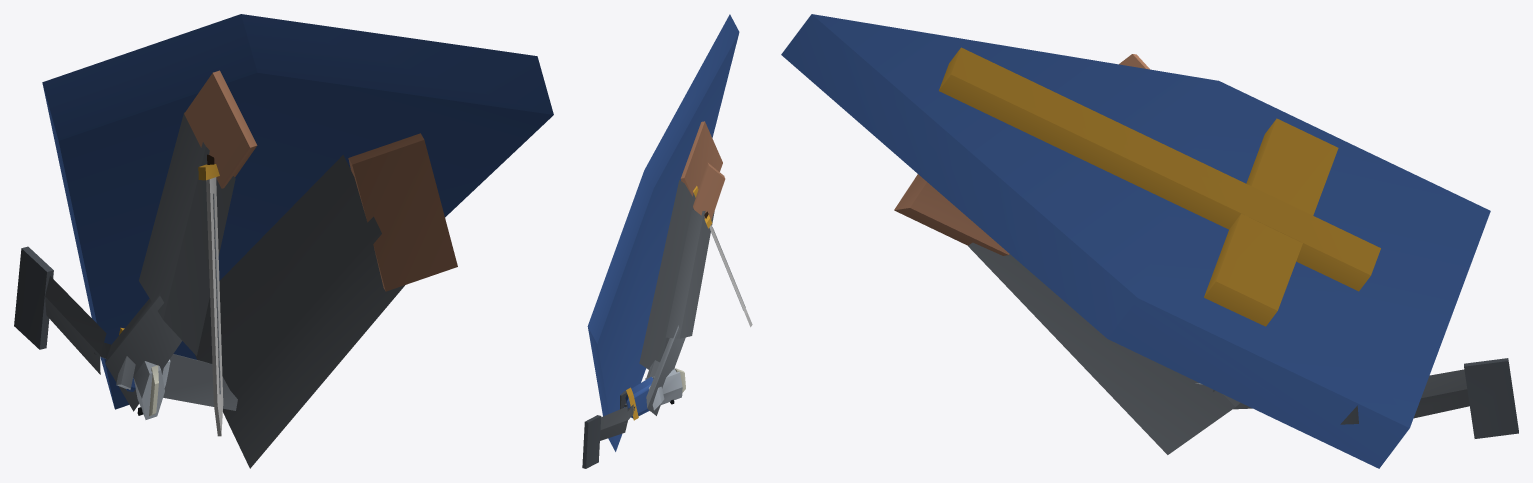
The model's file is knight.glb.
The picture shows the model from 3 angles, left to right: view 1: azimuth 30°, elevation 25°; view 2: azimuth 150°, elevation 25°; view 3: azimuth 270°, elevation 25°; orthographic projection. The views are drawn at different scales.
Visible parts, largest first — view 1: knight; view 2: knight; view 3: knight.
Part boxes in pixels (bbox=[...]): knight: bbox=[14, 14, 553, 468]; knight: bbox=[582, 14, 752, 468]; knight: bbox=[781, 14, 1518, 468].
Size of the model in its own units: 3.47 by 10.38 by 13.86.
